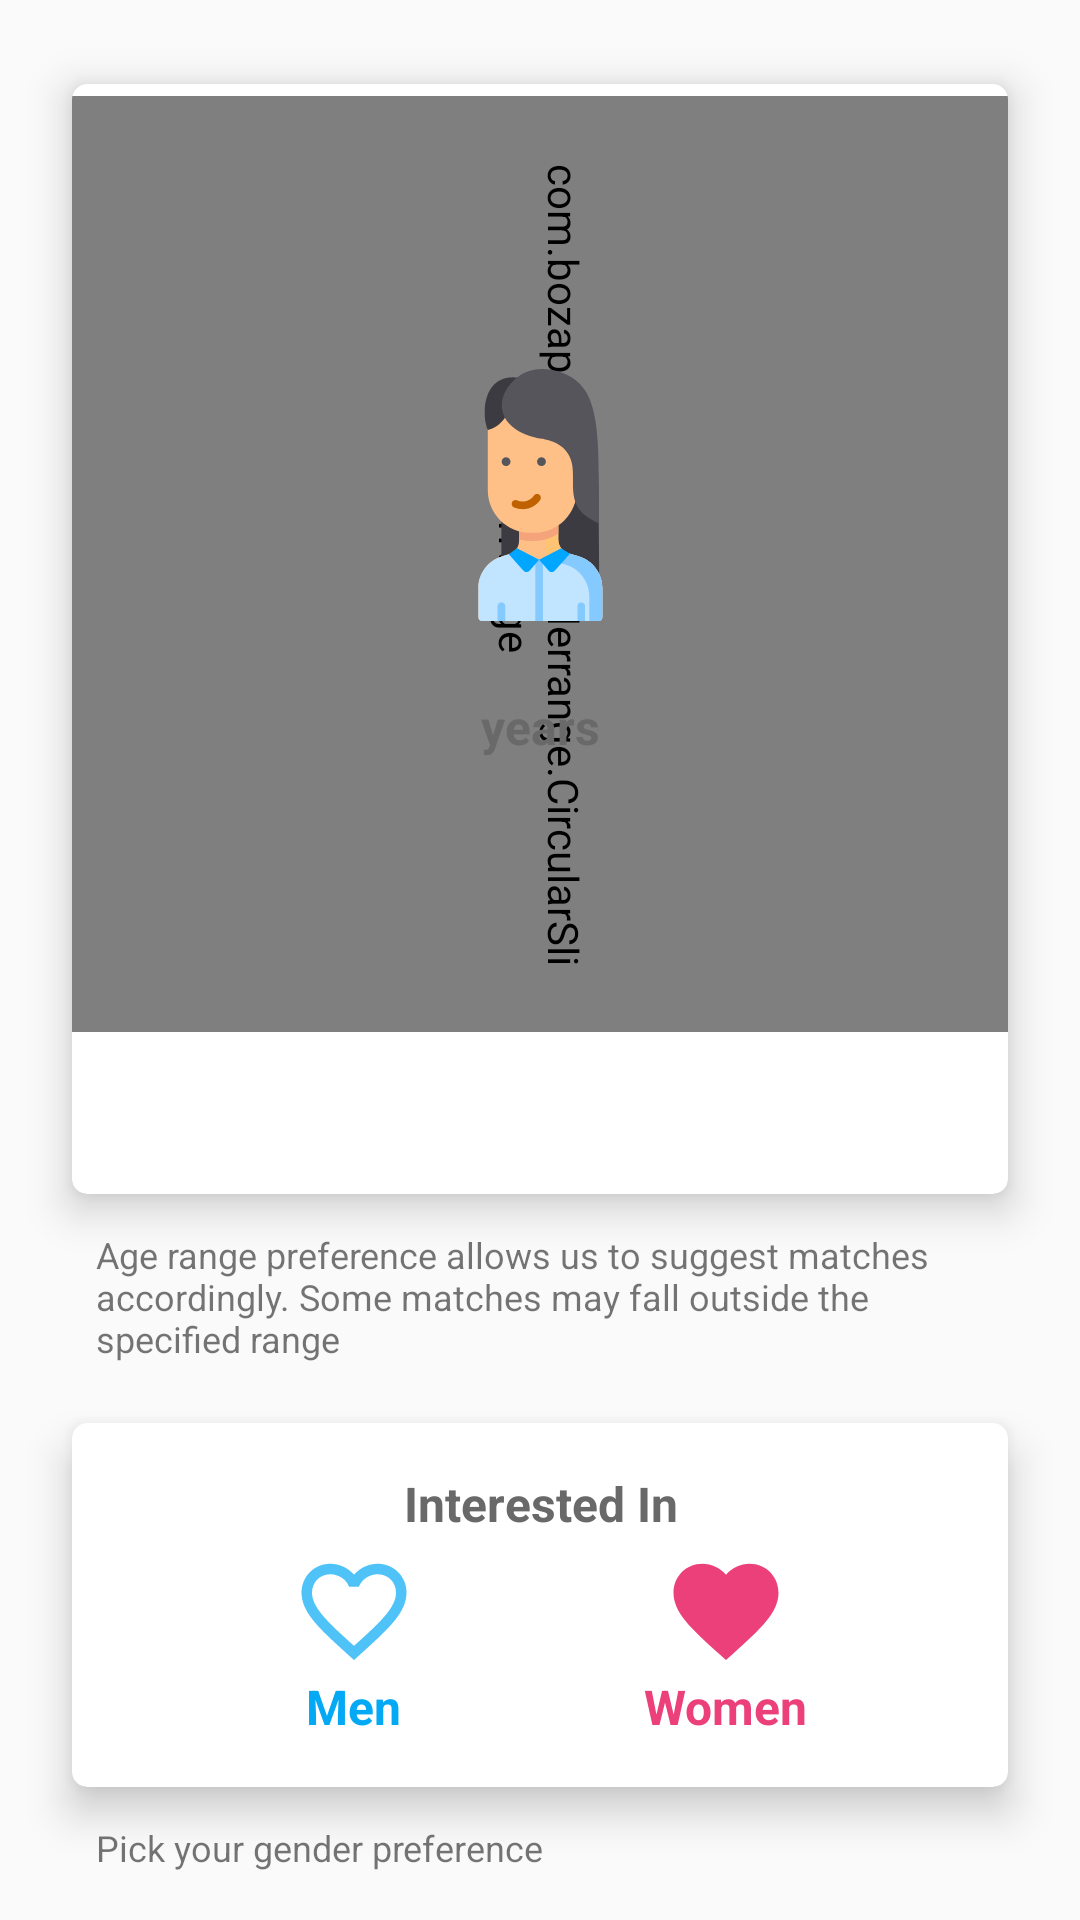

Icons on this 1080 × 1920 Android screen, each with the point to tap as (x,y):
woman: (540,495)
